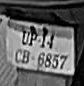1: (41, 32, 46, 49)
4: (47, 35, 55, 51)
5: (52, 53, 59, 71)
6: (36, 51, 44, 68)
7: (59, 54, 69, 72)
8: (44, 51, 51, 69)
B: (21, 49, 30, 66)
C: (13, 47, 22, 63)
P: (30, 31, 37, 49)
U: (19, 30, 30, 46)
